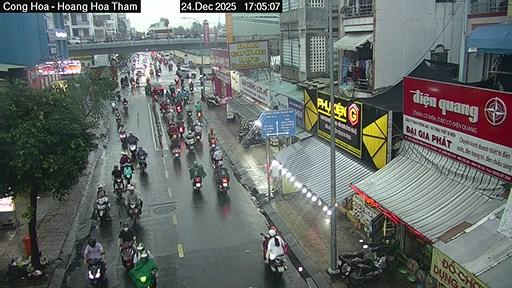motorbike: (336, 239, 387, 274), (348, 252, 386, 286), (89, 259, 105, 286), (266, 252, 285, 274), (131, 270, 156, 286), (268, 252, 285, 274), (121, 242, 134, 269), (96, 198, 108, 225), (242, 133, 265, 147), (128, 202, 138, 223), (217, 176, 229, 192), (205, 95, 220, 107), (259, 233, 268, 252), (236, 129, 249, 142), (114, 178, 122, 198), (122, 166, 131, 183), (137, 154, 146, 171), (211, 157, 221, 170), (185, 138, 194, 152), (192, 176, 201, 189), (118, 130, 125, 145), (128, 143, 135, 157), (176, 104, 182, 118), (109, 99, 115, 112), (115, 115, 121, 127), (194, 130, 201, 140), (177, 125, 184, 135), (172, 148, 179, 157), (210, 138, 216, 148), (121, 80, 128, 88), (195, 109, 201, 118), (122, 102, 127, 112), (186, 109, 191, 117), (188, 81, 191, 91), (131, 81, 134, 89)
